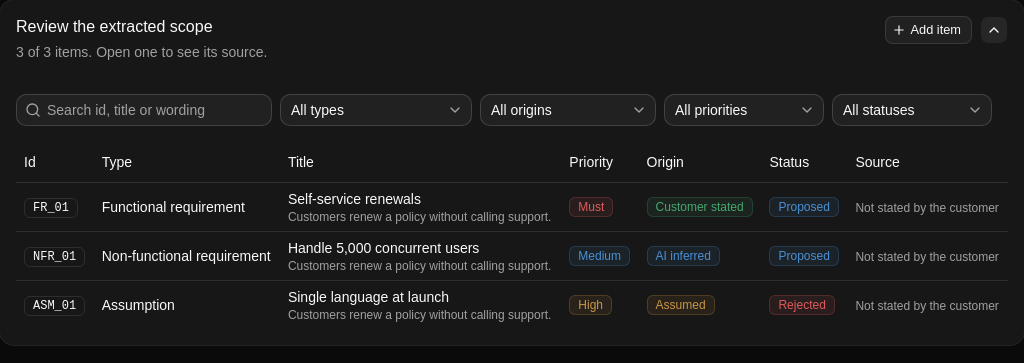
ScopeReview › finds an item by its id
Type "asm_0" into the field named "Search the scope" at (156, 110), box [41, 94, 271, 126]
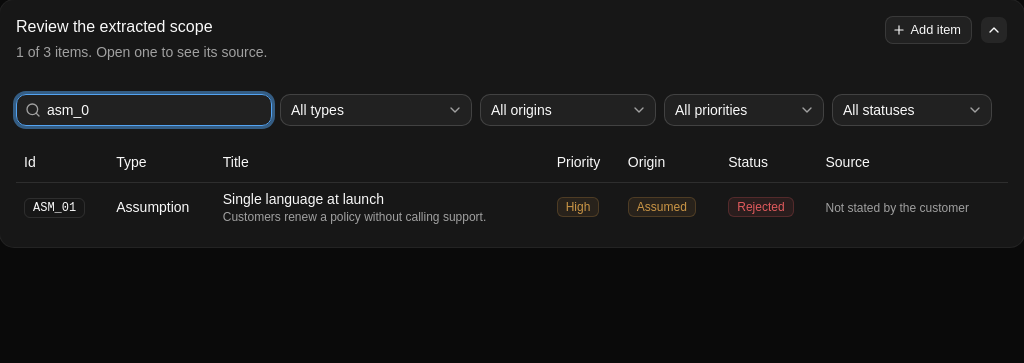
Expected: the text "ASM_01" is shown, [24, 198, 85, 218]
Result: the button "NFR_01" is gone
